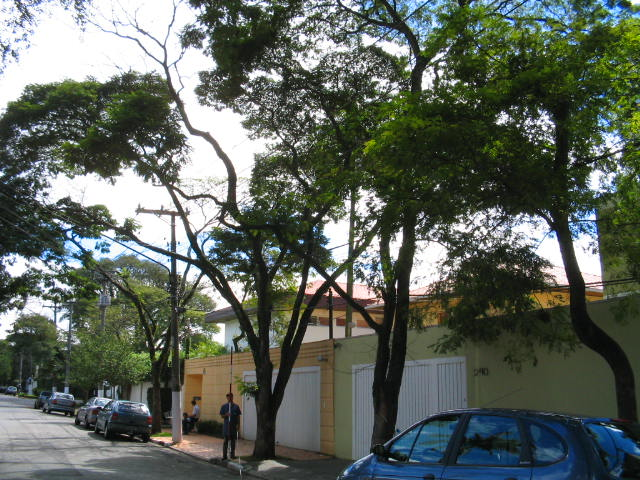stem: (244, 399, 293, 461)
stick: (222, 346, 237, 458)
tree: (110, 3, 371, 461)
